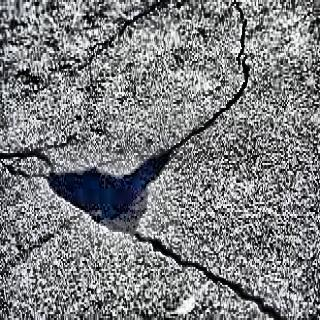crack: (132, 225, 281, 320), (167, 2, 250, 157), (115, 0, 162, 42), (0, 146, 53, 182)
pothole: (46, 144, 170, 233)
